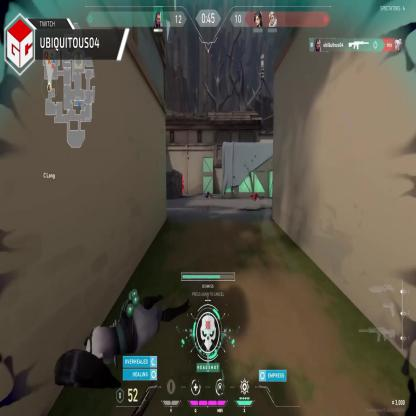enemy: (180, 173, 185, 196)
enemy_head: (181, 173, 183, 179)
